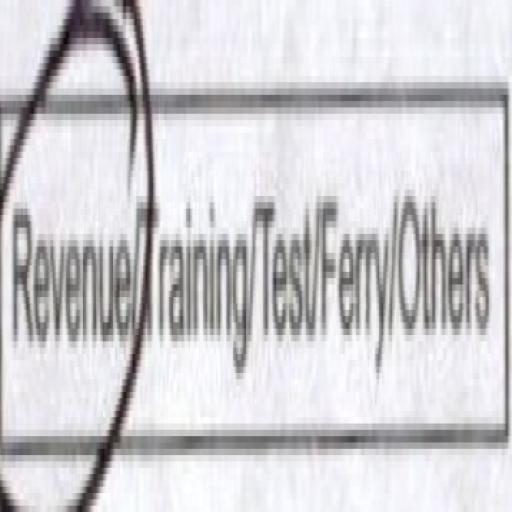check: (2, 7, 140, 512)
